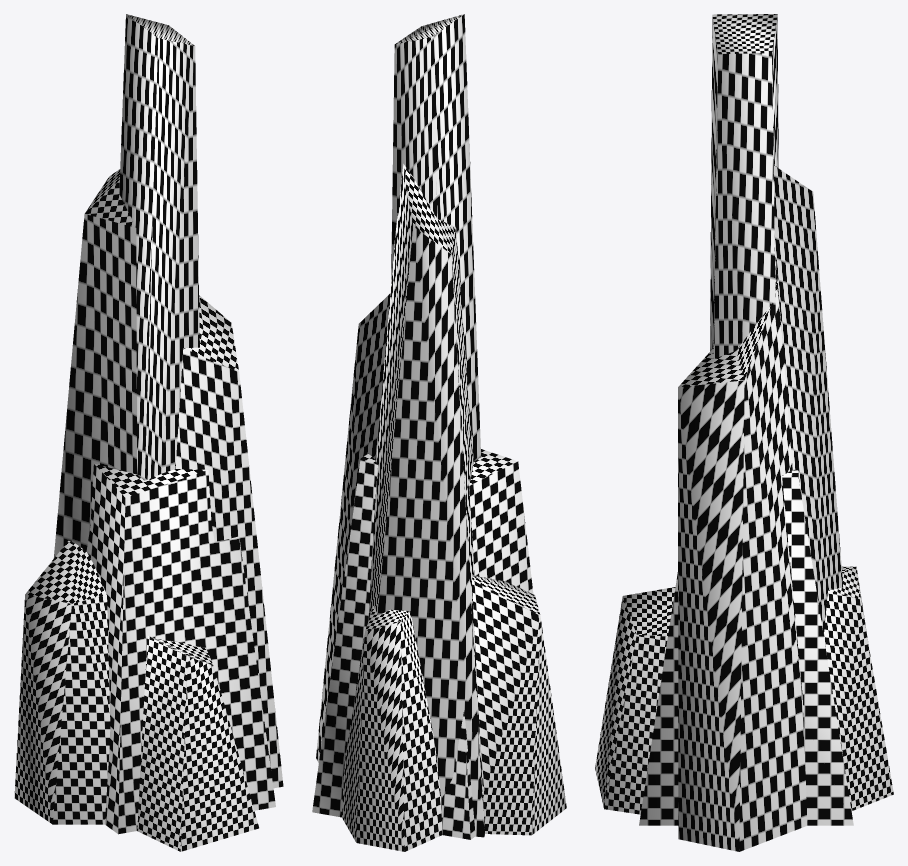
The model's file is naflte1.dae.
The picture shows the model from 3 angles, left to right: view 1: azimuth 30°, elevation 25°; view 2: azimuth 150°, elevation 25°; view 3: azimuth 270°, elevation 25°; orthographic projection.
Parts seen in each view (by area): view 1: termitary; view 2: termitary; view 3: termitary.
Part boxes in pixels (x1=…): termitary: x1=14, y1=14, x2=283, y2=851; termitary: x1=312, y1=14, x2=566, y2=851; termitary: x1=595, y1=14, x2=893, y2=851.
Bounding box in the file's own units: 0.8378 × 0.8952 × 2.55.
Materials: 1 (1 with a texture image).
